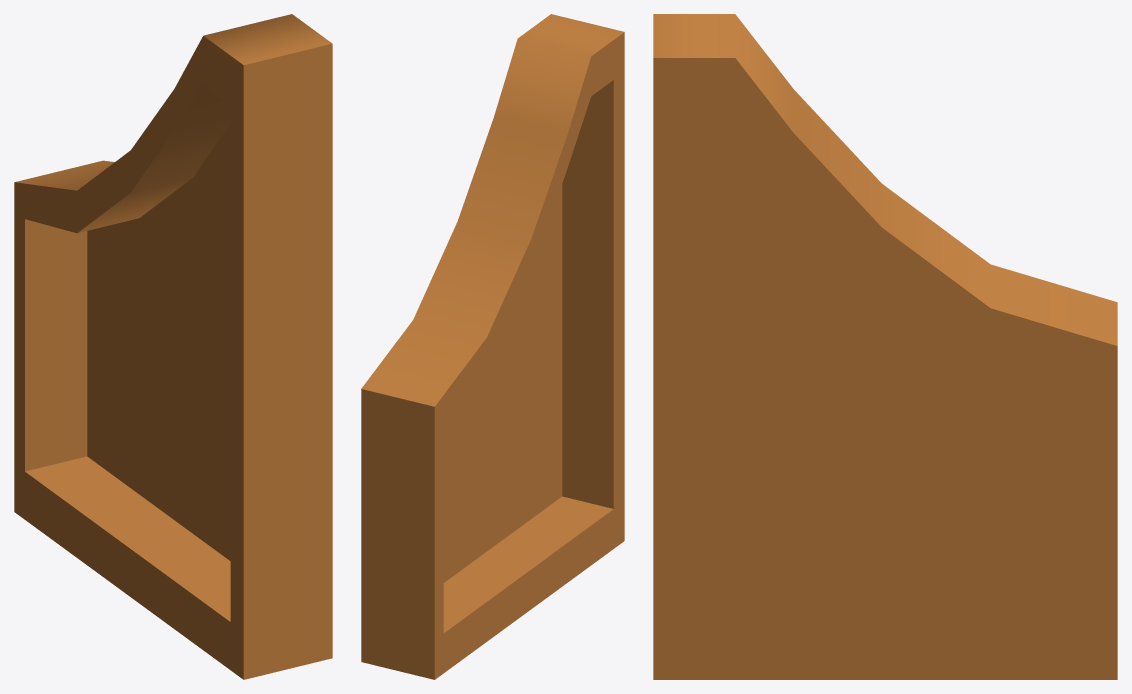
Rendered from right wing medium.fbx.
3 renders of one model, left to right at view 1: azimuth 30°, elevation 25°; view 2: azimuth 150°, elevation 25°; view 3: azimuth 270°, elevation 25°, orthographic. The views are drawn at different scales.
Parts seen in each view (by area): view 1: polySurface110; view 2: polySurface110; view 3: polySurface110.
Boxes of the visible parts, bbox=[...] form: polySurface110: bbox=[14, 14, 332, 679]; polySurface110: bbox=[361, 14, 624, 679]; polySurface110: bbox=[653, 14, 1117, 679].
Size of the model in its own units: 0.675 by 4.46 by 3.02.
Materials: 1 (1 with a texture image).
